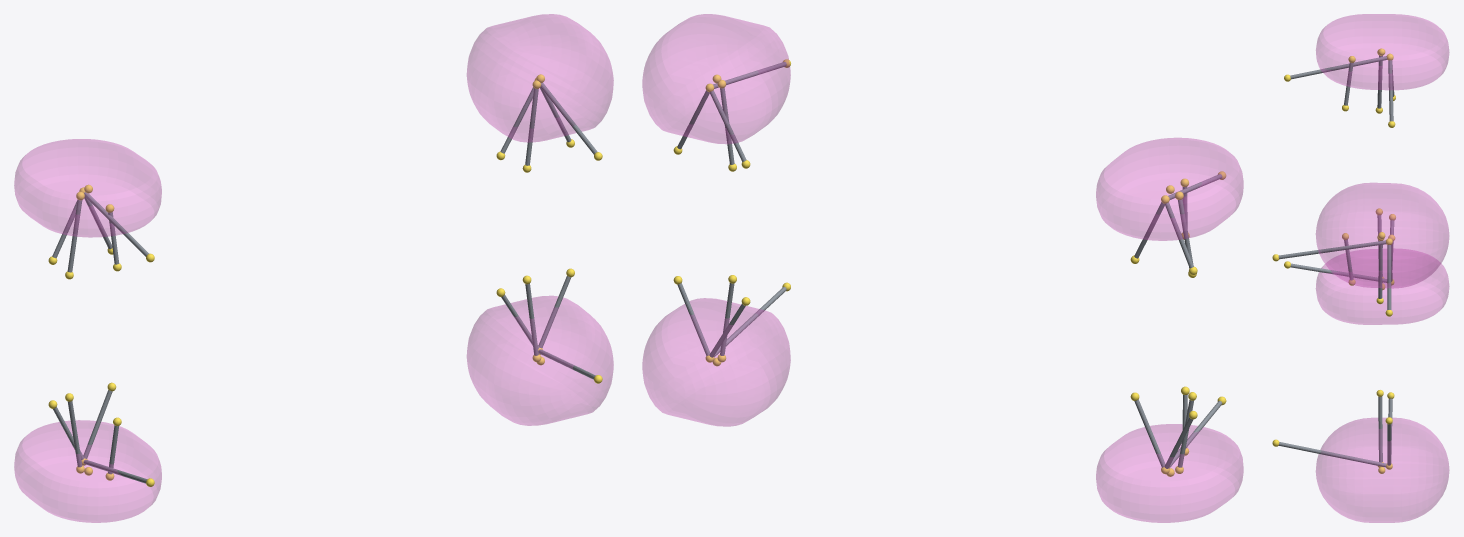
File: modern_car_v2_reference_suspension_kinematics.glb
3 renders of one model, left to right at view 1: azimuth 30°, elevation 25°; view 2: azimuth 150°, elevation 25°; view 3: azimuth 270°, elevation 25°, orthographic. The views are drawn at different scales.
Visible parts, largest first — view 1: tyre_sweep_front_right, tyre_sweep_front_left, tyre_sweep_rear_right, tyre_sweep_rear_left; view 2: tyre_sweep_front_right, tyre_sweep_front_left, tyre_sweep_rear_right, tyre_sweep_rear_left; view 3: tyre_sweep_front_right, tyre_sweep_front_left, tyre_sweep_rear_right, tyre_sweep_rear_left, link_front_left_strut_top_ball_joint, link_front_right_strut_top_ball_joint, link_rear_right_damper_top_lower_link_outer, link_rear_left_damper_top_lower_link_outer, link_front_right_lower_arm_front_inner_ball_joint, link_front_left_tie_rod_inner_tie_rod_outer, link_rear_right_lower_link_front_inner_lower_link_outer, link_front_right_tie_rod_inner_tie_rod_outer (+1 smaller).
Part boxes in pixels (x1=…): tyre_sweep_front_right: x1=467, y1=14, x2=613, y2=142; tyre_sweep_front_left: x1=467, y1=296, x2=613, y2=425; tyre_sweep_rear_right: x1=14, y1=139, x2=161, y2=237; tyre_sweep_rear_left: x1=14, y1=420, x2=161, y2=522; tyre_sweep_front_right: x1=642, y1=14, x2=790, y2=143; tyre_sweep_front_left: x1=642, y1=298, x2=790, y2=426; tyre_sweep_rear_right: x1=1096, y1=138, x2=1243, y2=240; tyre_sweep_rear_left: x1=1096, y1=424, x2=1243, y2=522; tyre_sweep_front_right: x1=1316, y1=183, x2=1449, y2=288; tyre_sweep_front_left: x1=1316, y1=418, x2=1449, y2=522; tyre_sweep_rear_right: x1=1316, y1=14, x2=1449, y2=89; tyre_sweep_rear_left: x1=1316, y1=248, x2=1449, y2=324; link_front_left_strut_top_ball_joint: x1=1278, y1=442, x2=1386, y2=467; link_front_right_strut_top_ball_joint: x1=1278, y1=240, x2=1386, y2=259; link_rear_right_damper_top_lower_link_outer: x1=1290, y1=56, x2=1387, y2=79; link_rear_left_damper_top_lower_link_outer: x1=1290, y1=263, x2=1386, y2=282; link_front_right_lower_arm_front_inner_ball_joint: x1=1387, y1=245, x2=1391, y2=309; link_front_left_tie_rod_inner_tie_rod_outer: x1=1378, y1=396, x2=1382, y2=462; link_rear_right_lower_link_front_inner_lower_link_outer: x1=1388, y1=60, x2=1393, y2=121; link_front_right_tie_rod_inner_tie_rod_outer: x1=1378, y1=241, x2=1382, y2=298.
Bounding box in the file's own units: 3.31 × 2.08 × 1.07.
